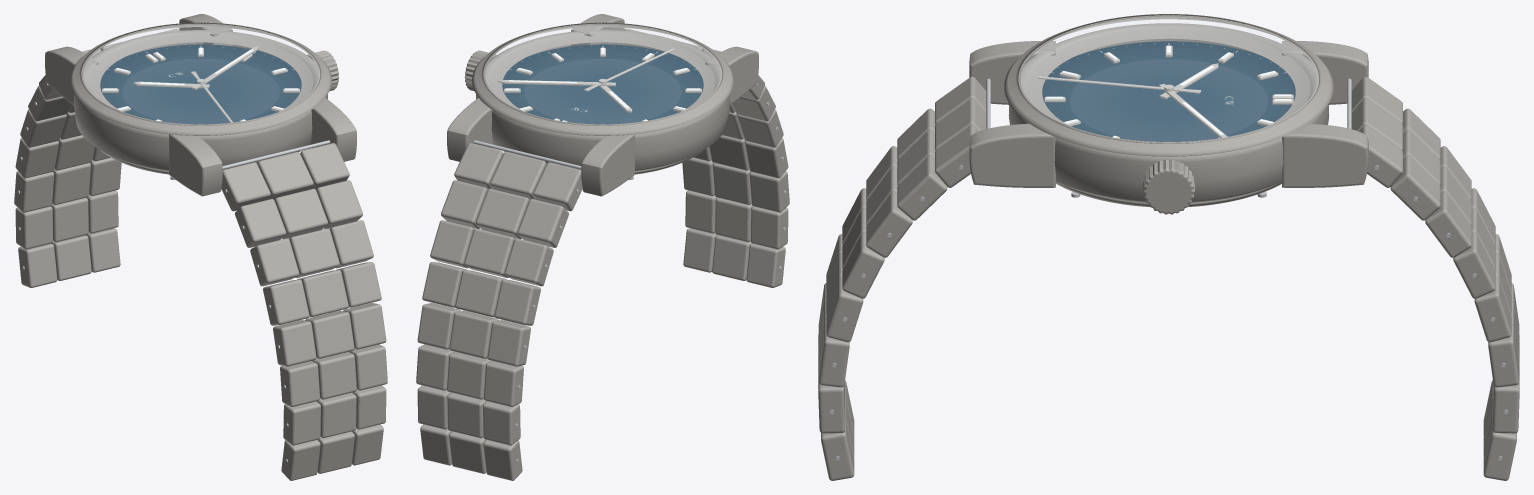
Rendered from christopher-ward-c1-bel-canto.glb.
3 renders of one model, left to right at view 1: azimuth 30°, elevation 25°; view 2: azimuth 150°, elevation 25°; view 3: azimuth 270°, elevation 25°, orthographic. The views are drawn at different scales.
Parts seen in each view (by area): view 1: Стекло, Корпус, Циферблат, Безель, Звено 6 часов: ряд 2, элемент 3, Звено 6 часов: ряд 1, элемент 3, Звено 6 часов: ряд 2, элемент 1, Звено 6 часов: ряд 3, элемент 3, Звено 6 часов: ряд 3, элемент 1, Звено 6 часов: ряд 1, элемент 1, Звено 6 часов: ряд 5, элемент 3, Звено 6 часов: ряд 4, элемент 3 (+31 smaller); view 2: Стекло, Корпус, Циферблат, Безель, Звено 12 часов: ряд 2, элемент 3, Звено 12 часов: ряд 1, элемент 3, Звено 12 часов: ряд 2, элемент 1, Звено 12 часов: ряд 3, элемент 3, Звено 12 часов: ряд 3, элемент 1, Звено 12 часов: ряд 1, элемент 1, Звено 12 часов: ряд 5, элемент 3, Звено 12 часов: ряд 4, элемент 3 (+32 smaller); view 3: Корпус, Стекло, Циферблат, Безель, Головка, Звено 12 часов: ряд 2, элемент 2, Звено 6 часов: ряд 2, элемент 2, Звено 12 часов: ряд 3, элемент 2, Звено 6 часов: ряд 3, элемент 2, Звено 12 часов: ряд 4, элемент 2, Звено 6 часов: ряд 4, элемент 2, Звено 12 часов: ряд 1, элемент 2 (+20 smaller).
Part boxes in pixels (x1,y1,x2,y2): Стекло: (82,24,319,124); Корпус: (45,14,356,196); Циферблат: (100,44,301,124); Безель: (70,22,331,135); Звено 6 часов: ряд 2, элемент 3: (274,188,327,238); Звено 6 часов: ряд 1, элемент 3: (257,152,313,199); Звено 6 часов: ряд 2, элемент 1: (235,199,286,247); Звено 6 часов: ряд 3, элемент 3: (289,228,339,277); Звено 6 часов: ряд 3, элемент 1: (250,238,299,286); Звено 6 часов: ряд 1, элемент 1: (221,162,270,211); Звено 6 часов: ряд 5, элемент 3: (305,310,354,358); Звено 6 часов: ряд 4, элемент 3: (297,270,348,317); Стекло: (484,24,721,124); Корпус: (447,14,758,196); Циферблат: (502,44,703,124); Безель: (472,22,733,135); Звено 12 часов: ряд 2, элемент 3: (476,188,529,238); Звено 12 часов: ряд 1, элемент 3: (490,152,546,199); Звено 12 часов: ряд 2, элемент 1: (517,199,568,247); Звено 12 часов: ряд 3, элемент 3: (464,228,514,277); Звено 12 часов: ряд 3, элемент 1: (504,238,553,286); Звено 12 часов: ряд 1, элемент 1: (533,162,582,211); Звено 12 часов: ряд 5, элемент 3: (449,310,498,358); Звено 12 часов: ряд 4, элемент 3: (455,270,506,317); Корпус: (969,23,1368,202); Стекло: (1019,16,1318,141); Циферблат: (1042,41,1295,141); Безель: (1004,14,1333,156); Головка: (1143,159,1194,214); Звено 12 часов: ряд 2, элемент 2: (1390,155,1440,220); Звено 6 часов: ряд 2, элемент 2: (897,155,947,220); Звено 12 часов: ряд 3, элемент 2: (1425,192,1471,257); Звено 6 часов: ряд 3, элемент 2: (866,192,912,257); Звено 12 часов: ряд 4, элемент 2: (1453,232,1495,298); Звено 6 часов: ряд 4, элемент 2: (842,232,884,298); Звено 12 часов: ряд 1, элемент 2: (1359,125,1402,187).
Bounding box in the file's own units: 43.79 × 51.54 × 87.27.
Materials: 16 (1 with a texture image).
